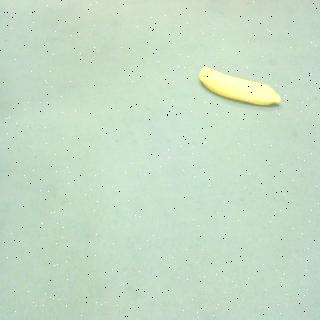banana: (192, 54, 284, 121)
